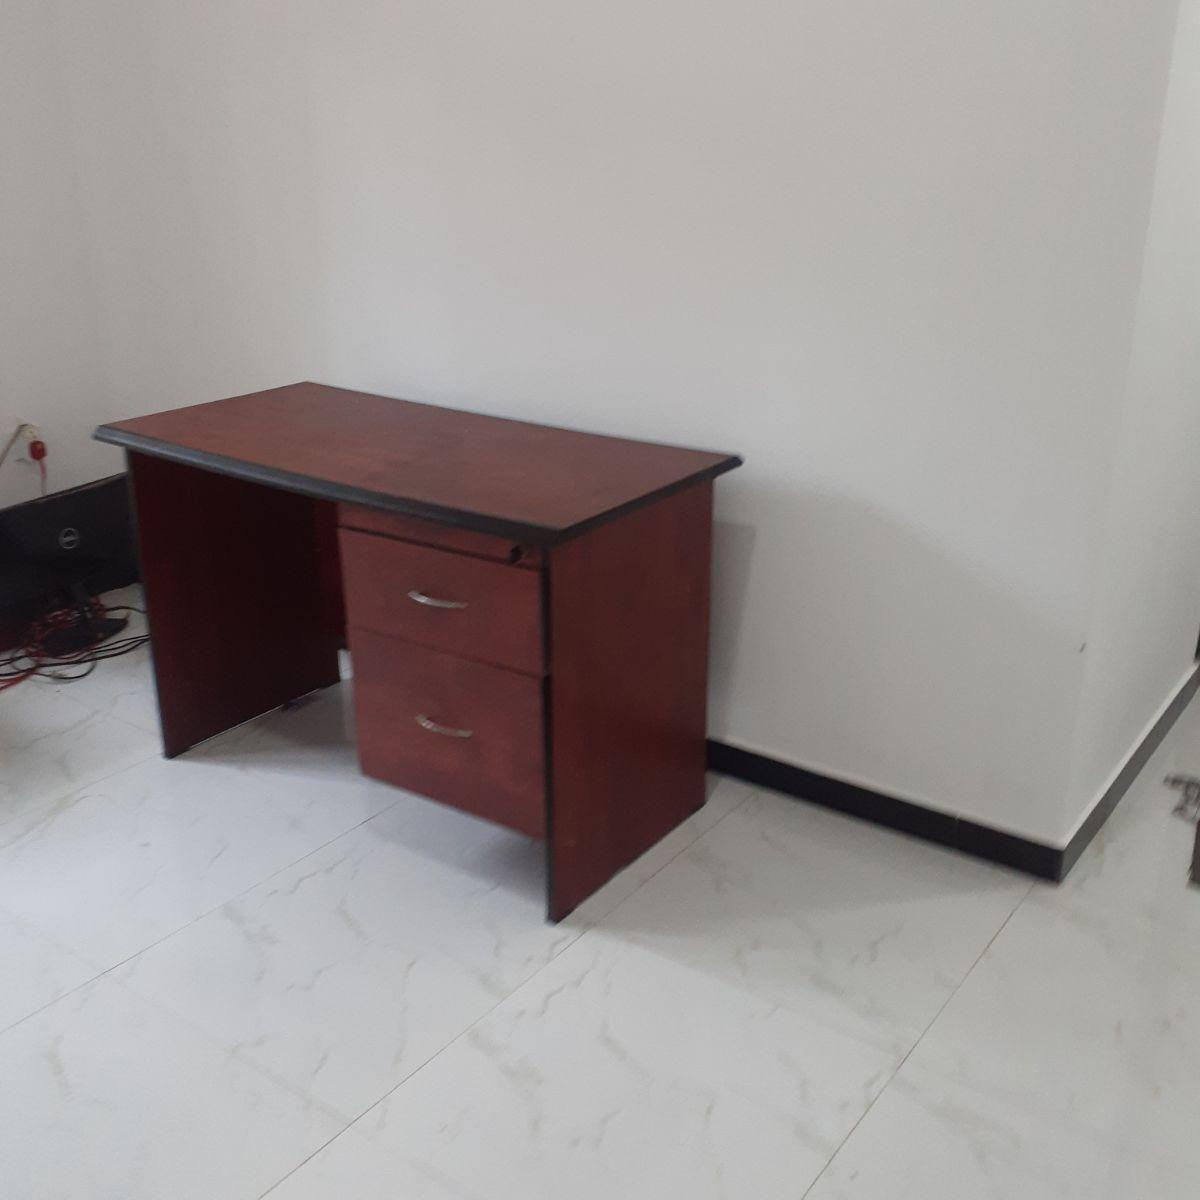Table: (67, 355, 804, 973)
